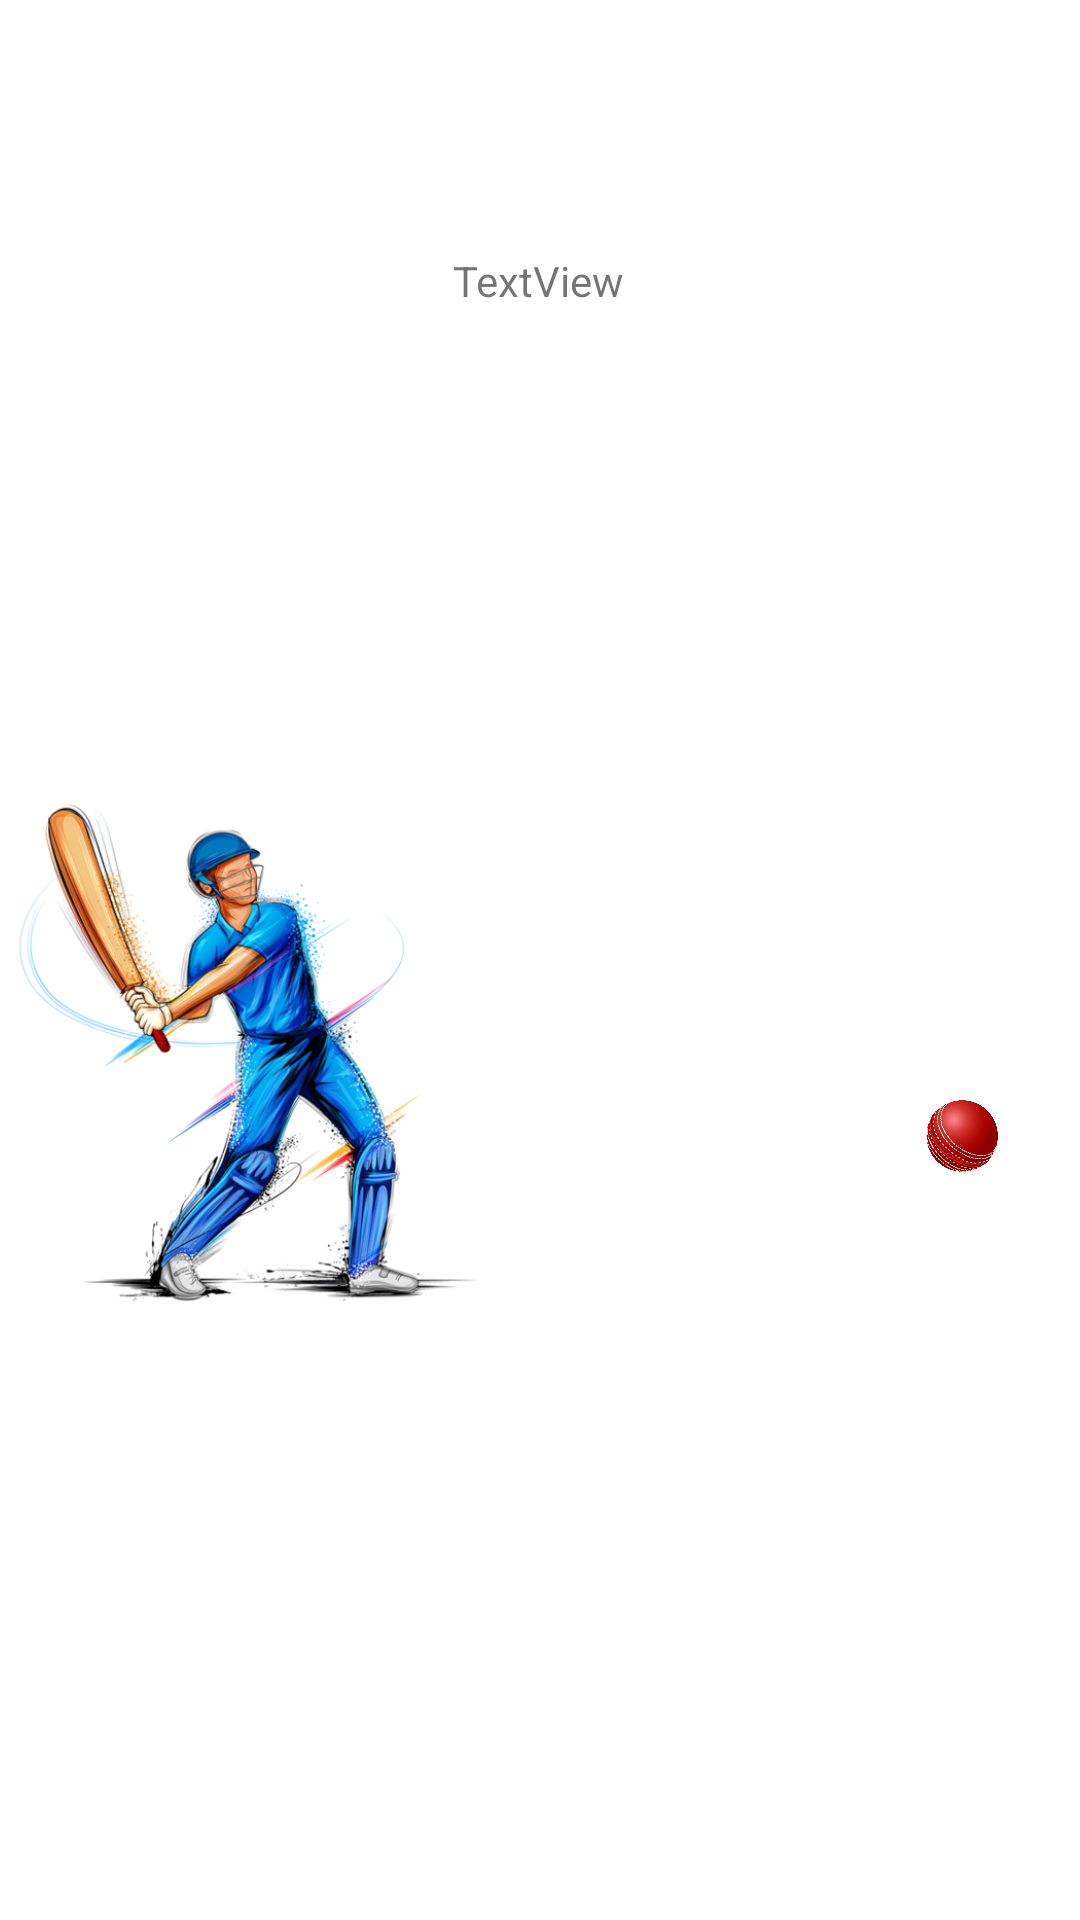

Icons on this 1080px×1920px Android screen, each with its box as [x1=x1, y1=y1, x2=x2, y2=y2]:
ball: [x1=926, y1=1100, x2=998, y2=1172]
